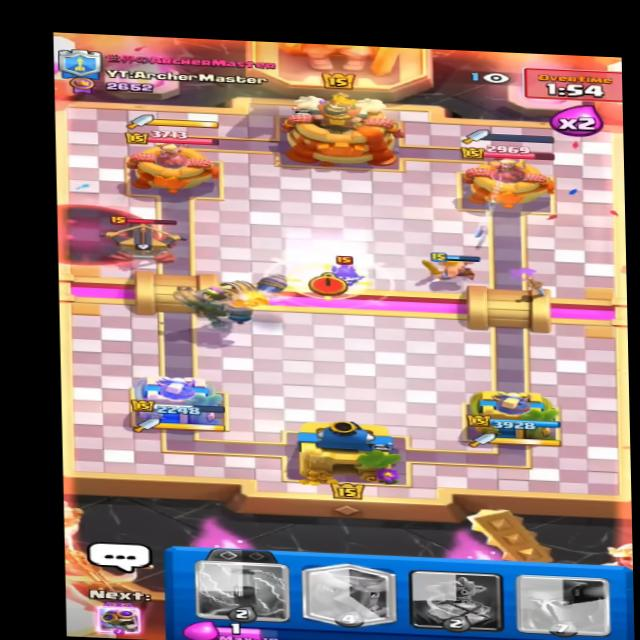Espirit: (318, 255, 362, 287)
Xbow: (99, 210, 192, 269)
